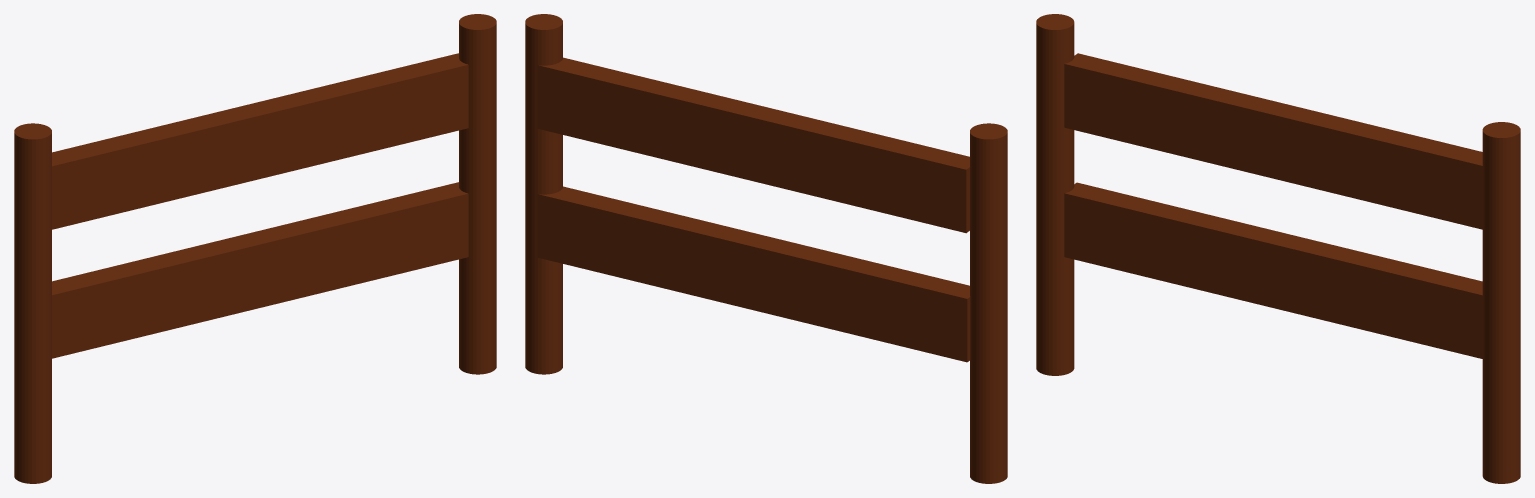
The model's file is fence.glb.
The picture shows the model from 3 angles, left to right: view 1: azimuth 30°, elevation 25°; view 2: azimuth 150°, elevation 25°; view 3: azimuth 330°, elevation 25°; orthographic projection.
Visible parts, largest first — view 1: Cylinder; view 2: Cylinder; view 3: Cylinder.
Part boxes in pixels (x1,y1,x2,y2): Cylinder: (14,14,496,483); Cylinder: (525,14,1007,483); Cylinder: (1036,14,1520,483).
Size of the model in its own units: 2.9 by 2.01 by 0.2.
